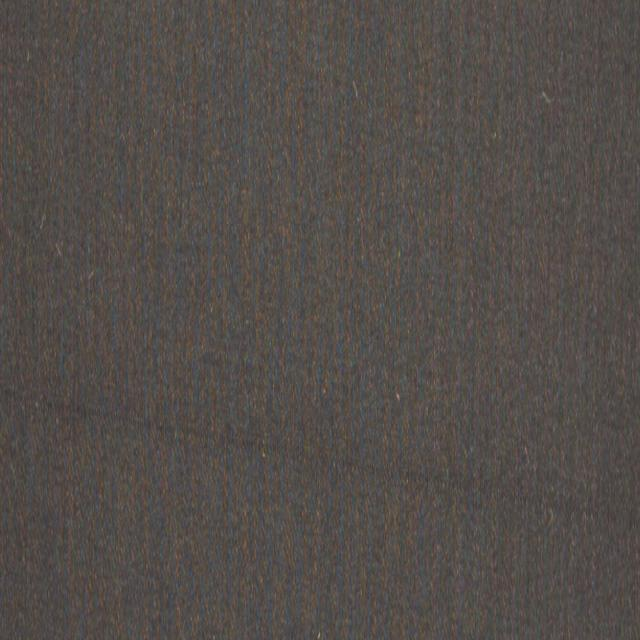Line: (0, 378, 640, 538)
